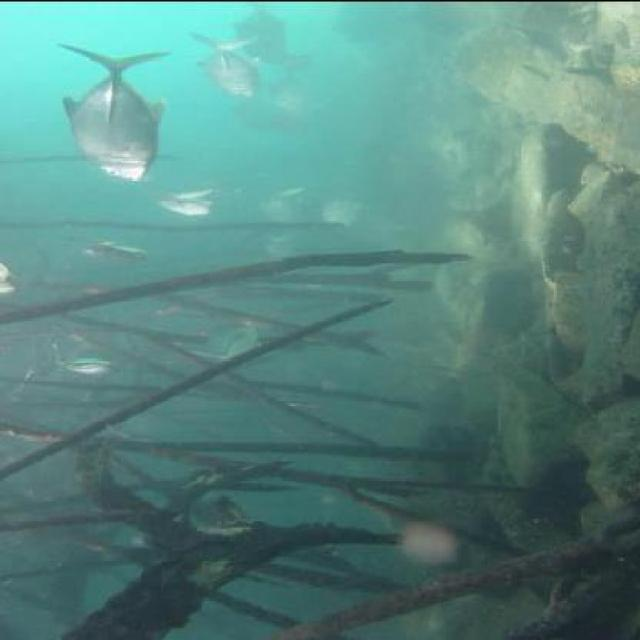Caranx_sexfasciatus_juvenile: (52, 38, 175, 178), (178, 30, 265, 99), (228, 3, 297, 66), (182, 318, 275, 362), (65, 230, 162, 268), (248, 220, 317, 262), (148, 181, 220, 217), (248, 187, 308, 222), (315, 189, 370, 226), (268, 73, 314, 115), (230, 100, 290, 132), (55, 357, 131, 378)
